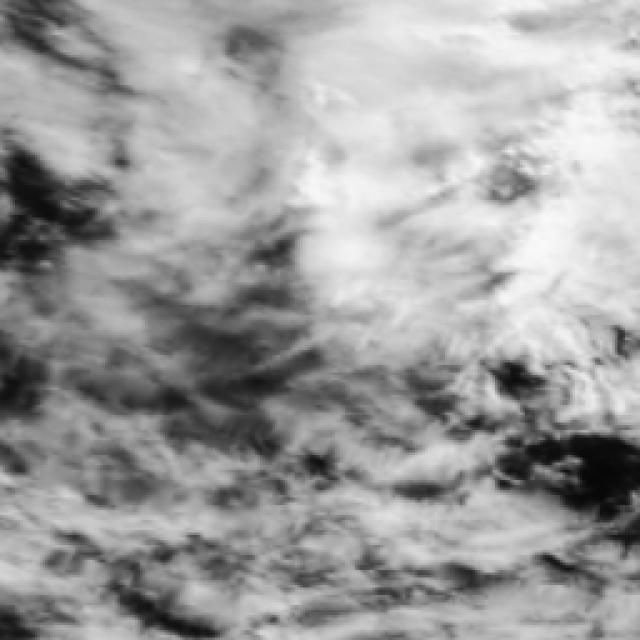CB: (298, 149, 506, 333), (459, 123, 640, 300), (316, 24, 487, 165)
